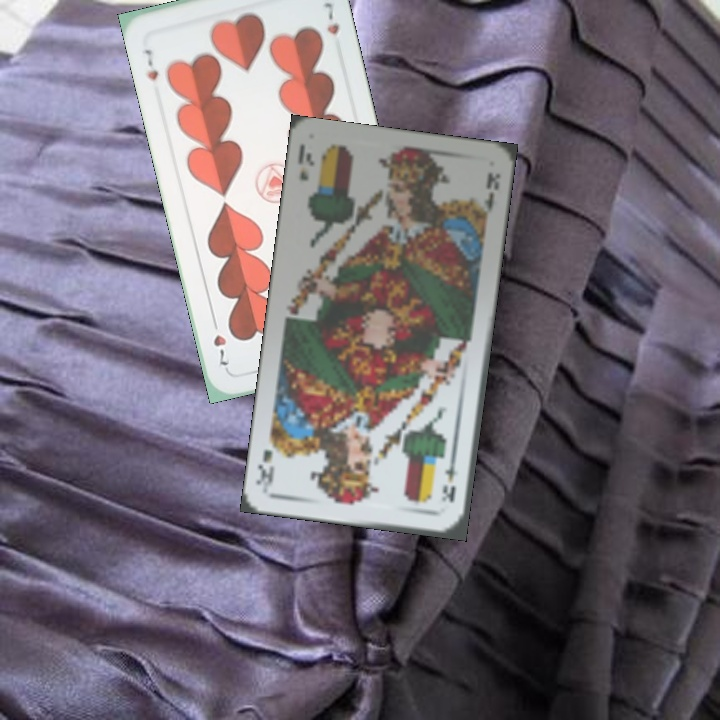EK: (438, 453, 458, 506), (294, 141, 318, 184)
H7: (140, 45, 161, 83)
